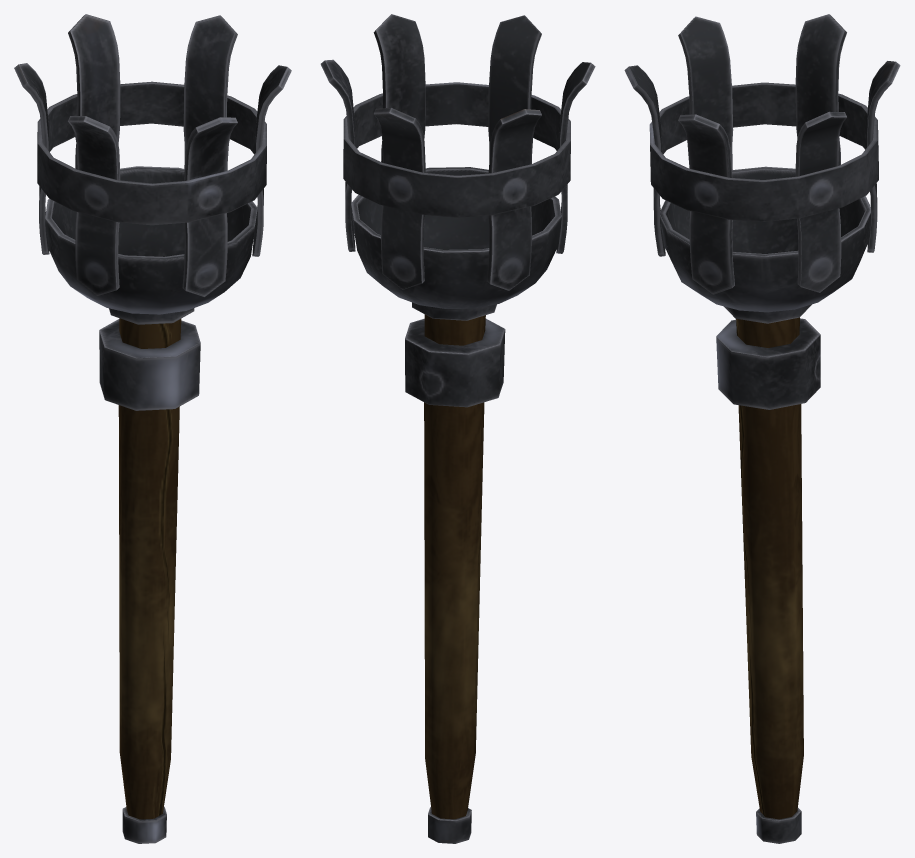
File: факел — копия.fbx
3 renders of one model, left to right at view 1: azimuth 30°, elevation 25°; view 2: azimuth 150°, elevation 25°; view 3: azimuth 270°, elevation 25°, orthographic.
Parts seen in each view (by area): view 1: polySurface2; view 2: polySurface2; view 3: polySurface2.
Part boxes in pixels (box(x1,y1,x2,y2)): polySurface2: box(14, 14, 291, 843); polySurface2: box(320, 14, 595, 843); polySurface2: box(624, 14, 900, 843).
Bounding box in the file's own units: 19.07 × 65.86 × 21.32.
